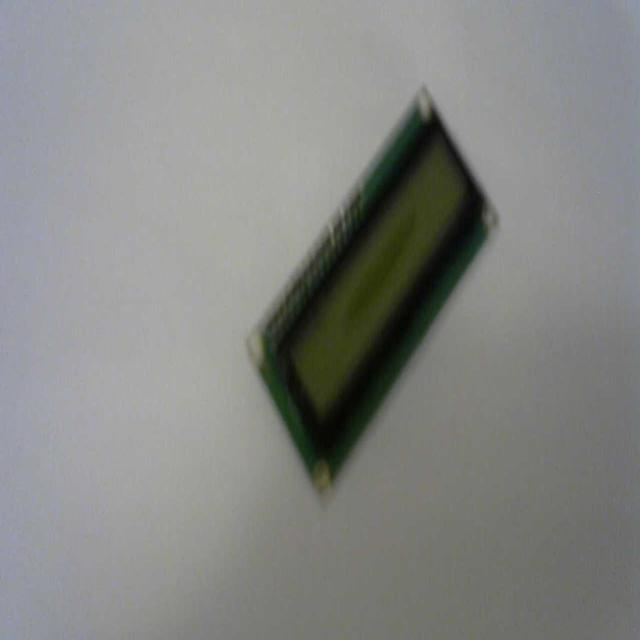lcd: (246, 82, 498, 493)
